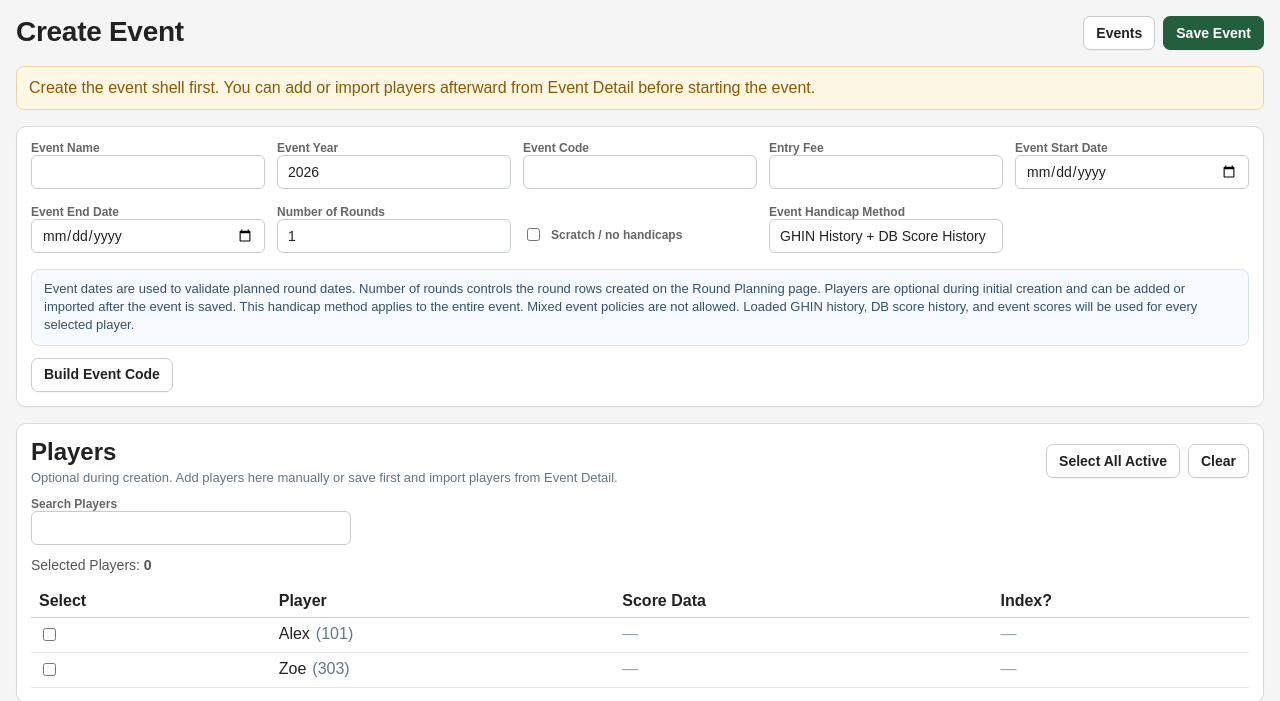
Test: Trip create/edit page characterization (before extraction) › switches scratch mode and disables handicap-method selection
expect the heading "Create Event" is shown: met, box top-left (16, 16), bottom-right (184, 47)
What coordinates should you click on to do the following:
click the checkbox labelled "Scratch / no handicaps"
I would click on:
 (534, 234)
Its box is top-left (527, 228), bottom-right (540, 241).
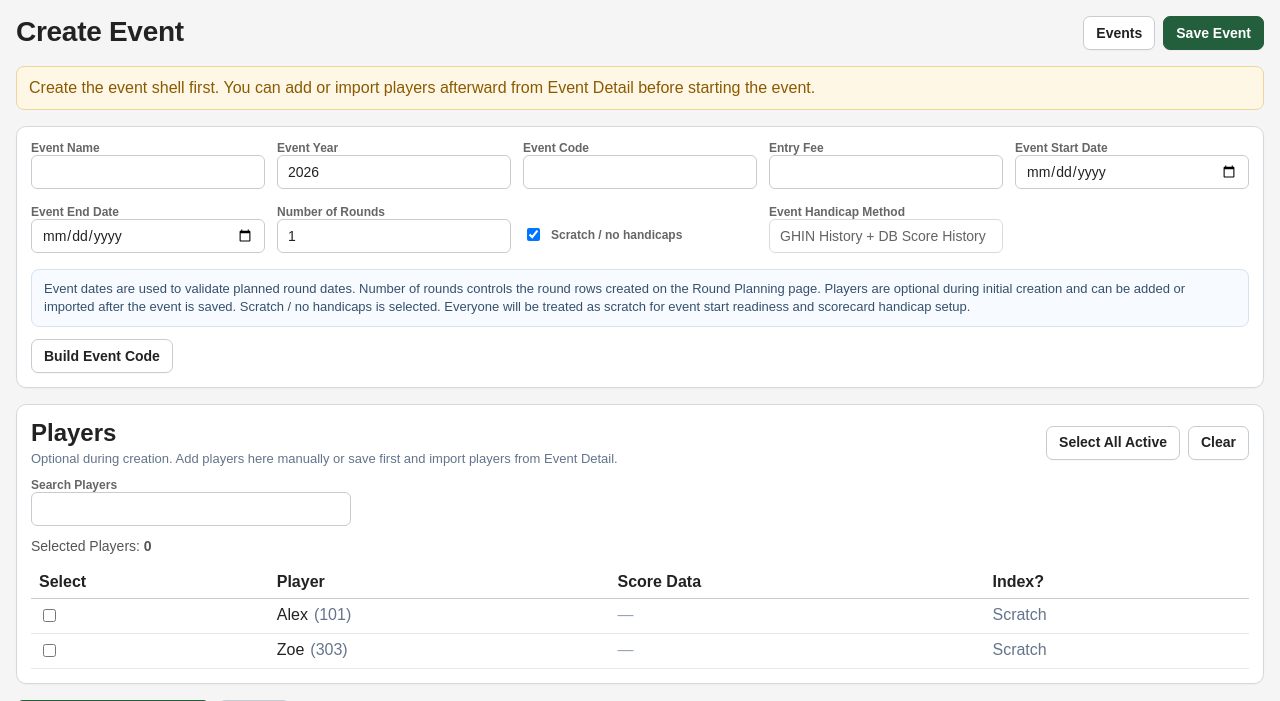
expect the dropdown labelled "Event Handicap Method" is disabled: met, box top-left (769, 219), bottom-right (1003, 253)
expect the text "Everyone will be treated as scratch" is shown: met, box top-left (240, 299), bottom-right (970, 314)
